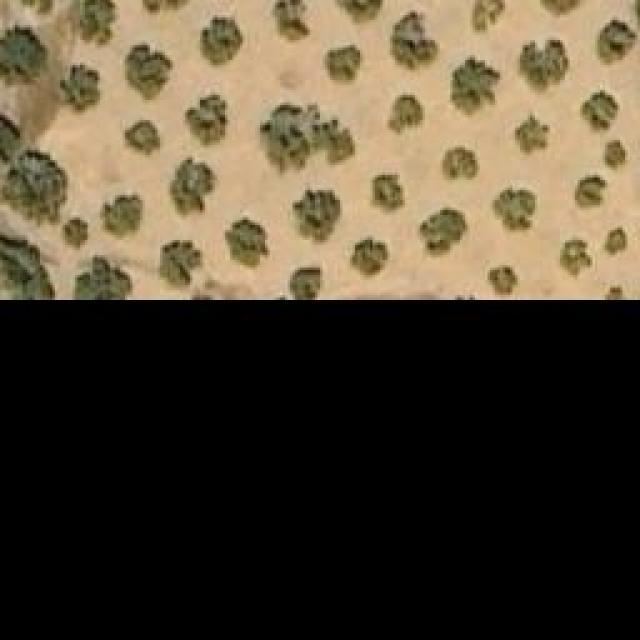Tree: (260, 102, 355, 170), (0, 150, 68, 225), (0, 228, 55, 298), (168, 158, 221, 221), (450, 55, 503, 115), (390, 10, 440, 73), (183, 90, 236, 148), (125, 42, 175, 100), (0, 25, 48, 85), (418, 208, 471, 261), (518, 40, 568, 95), (292, 188, 340, 241), (492, 185, 540, 233), (225, 218, 270, 268), (75, 258, 130, 298), (200, 18, 243, 68), (580, 90, 623, 133), (162, 240, 200, 288), (72, 0, 115, 42), (323, 45, 368, 85), (350, 238, 395, 278), (120, 118, 163, 158), (60, 65, 98, 110), (515, 115, 553, 160), (100, 195, 143, 233), (387, 93, 425, 136), (480, 260, 523, 298), (370, 173, 405, 216), (275, 0, 310, 42), (600, 20, 635, 60), (440, 145, 478, 180), (558, 240, 593, 278), (575, 175, 608, 213), (470, 0, 505, 35), (290, 265, 323, 298), (337, 0, 382, 22), (143, 0, 196, 18), (533, 0, 586, 18), (600, 228, 628, 258), (65, 220, 88, 248), (603, 140, 626, 168)
